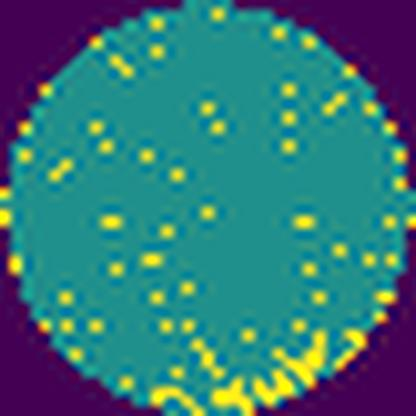Edge-Loc: (273, 318, 334, 392), (253, 359, 298, 408), (210, 375, 252, 415)
